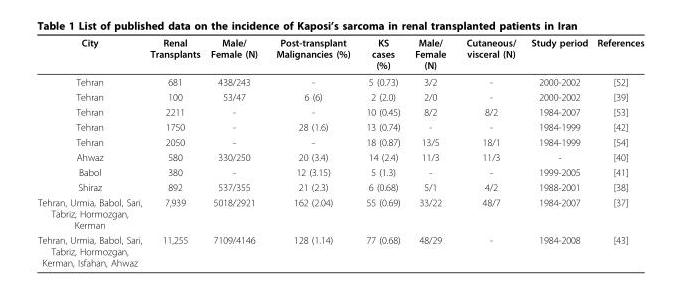table: (36, 36, 643, 267)
table column: (36, 36, 145, 267), (266, 36, 357, 267), (522, 36, 591, 267), (455, 36, 522, 267), (204, 36, 266, 267), (145, 36, 204, 267), (591, 36, 643, 267), (357, 36, 406, 267), (406, 36, 455, 267)
table column header: (36, 36, 643, 73)
table row: (36, 194, 643, 232), (36, 36, 643, 73), (36, 232, 643, 267), (36, 73, 643, 89), (36, 89, 643, 104), (36, 104, 643, 119), (36, 119, 643, 134), (36, 134, 643, 149), (36, 149, 643, 164), (36, 164, 643, 179), (36, 179, 643, 194)
